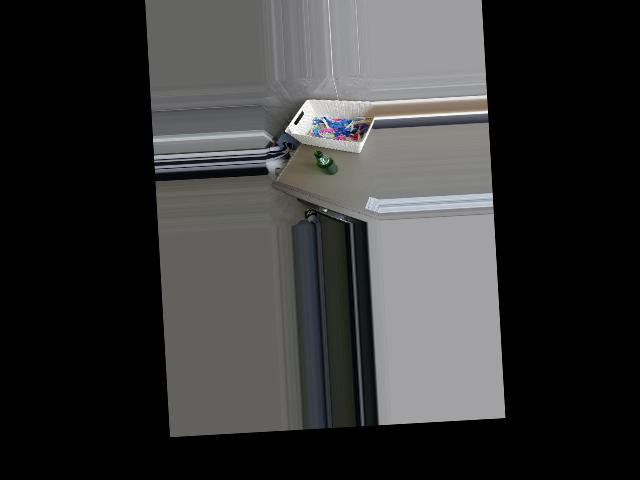beer: (313, 150, 337, 176)
